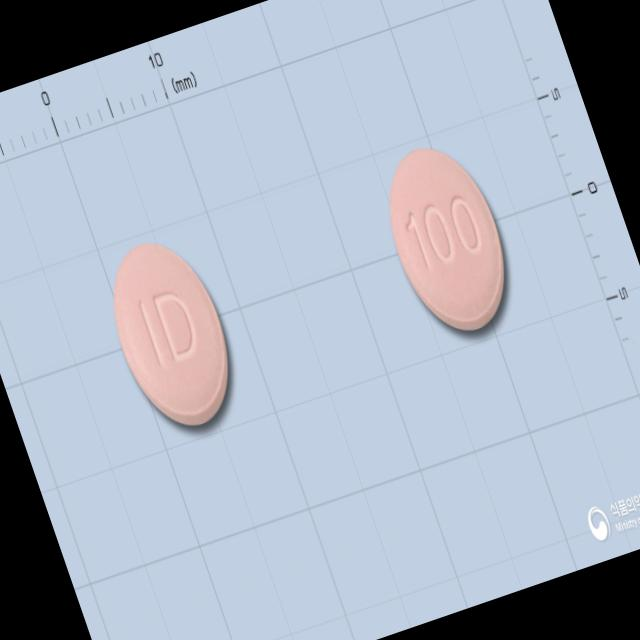Flomox: (91, 225, 251, 440), (367, 132, 527, 346)
